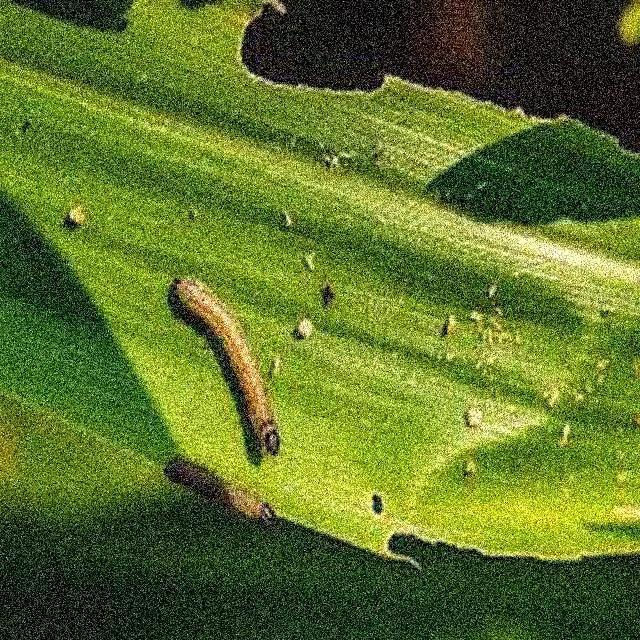gusano_cogollero: (169, 269, 283, 463)
